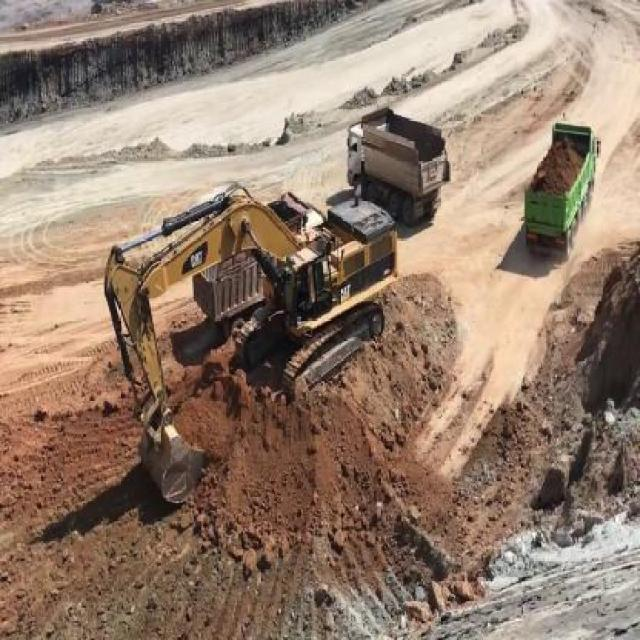Dump Truck: (342, 102, 451, 226), (520, 111, 597, 258), (194, 261, 266, 324)
Excavator: (104, 180, 398, 505)
